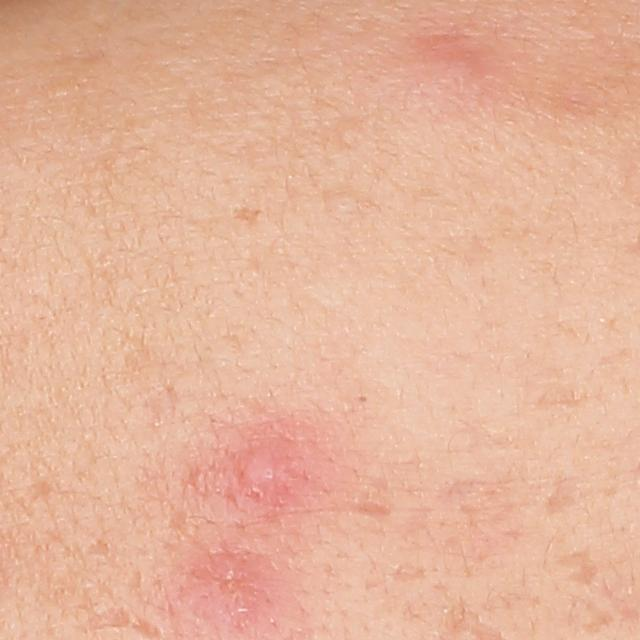atrophic_scar: (559, 540, 606, 589), (338, 497, 400, 526), (542, 477, 582, 519), (577, 602, 619, 636), (387, 557, 426, 582)
comedo: (333, 193, 359, 214), (353, 392, 370, 403)
papule: (226, 431, 282, 504)
